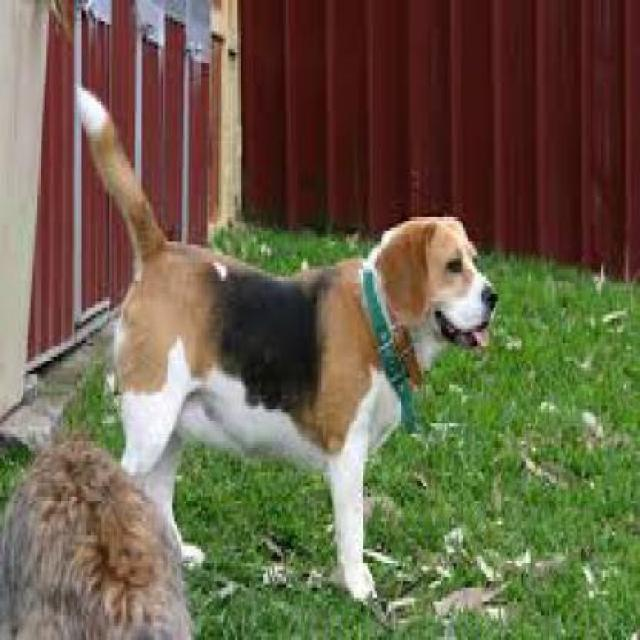Dog: (75, 83, 497, 608)
